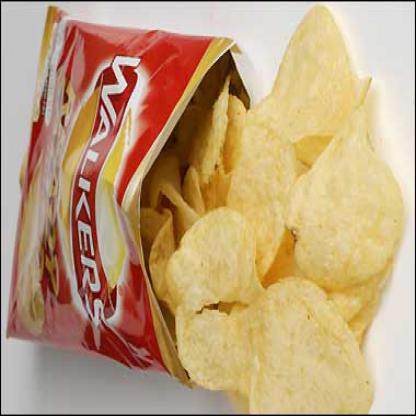potatochip: (1, 0, 300, 391)
